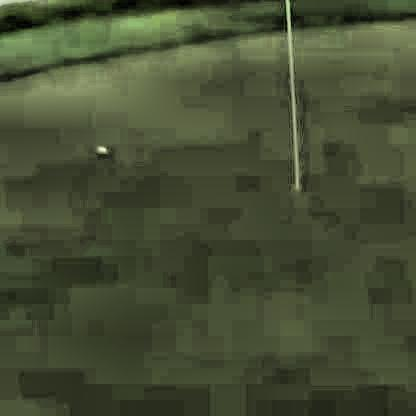golfball: (93, 143, 104, 154)
